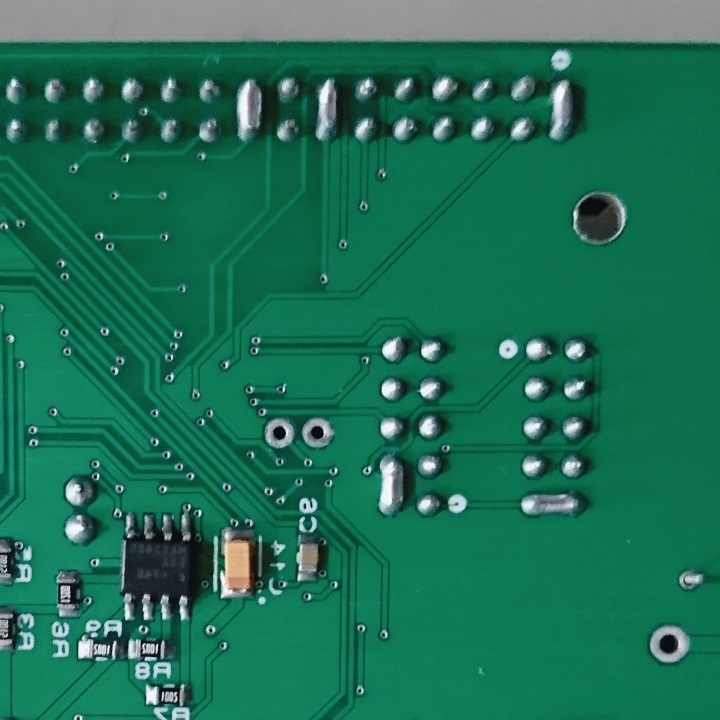F: (644, 621, 692, 667), (299, 415, 334, 452), (261, 415, 295, 450), (676, 567, 707, 593)
P: (516, 489, 590, 522), (233, 75, 265, 147), (545, 74, 577, 146), (376, 451, 408, 520), (313, 72, 342, 148)
